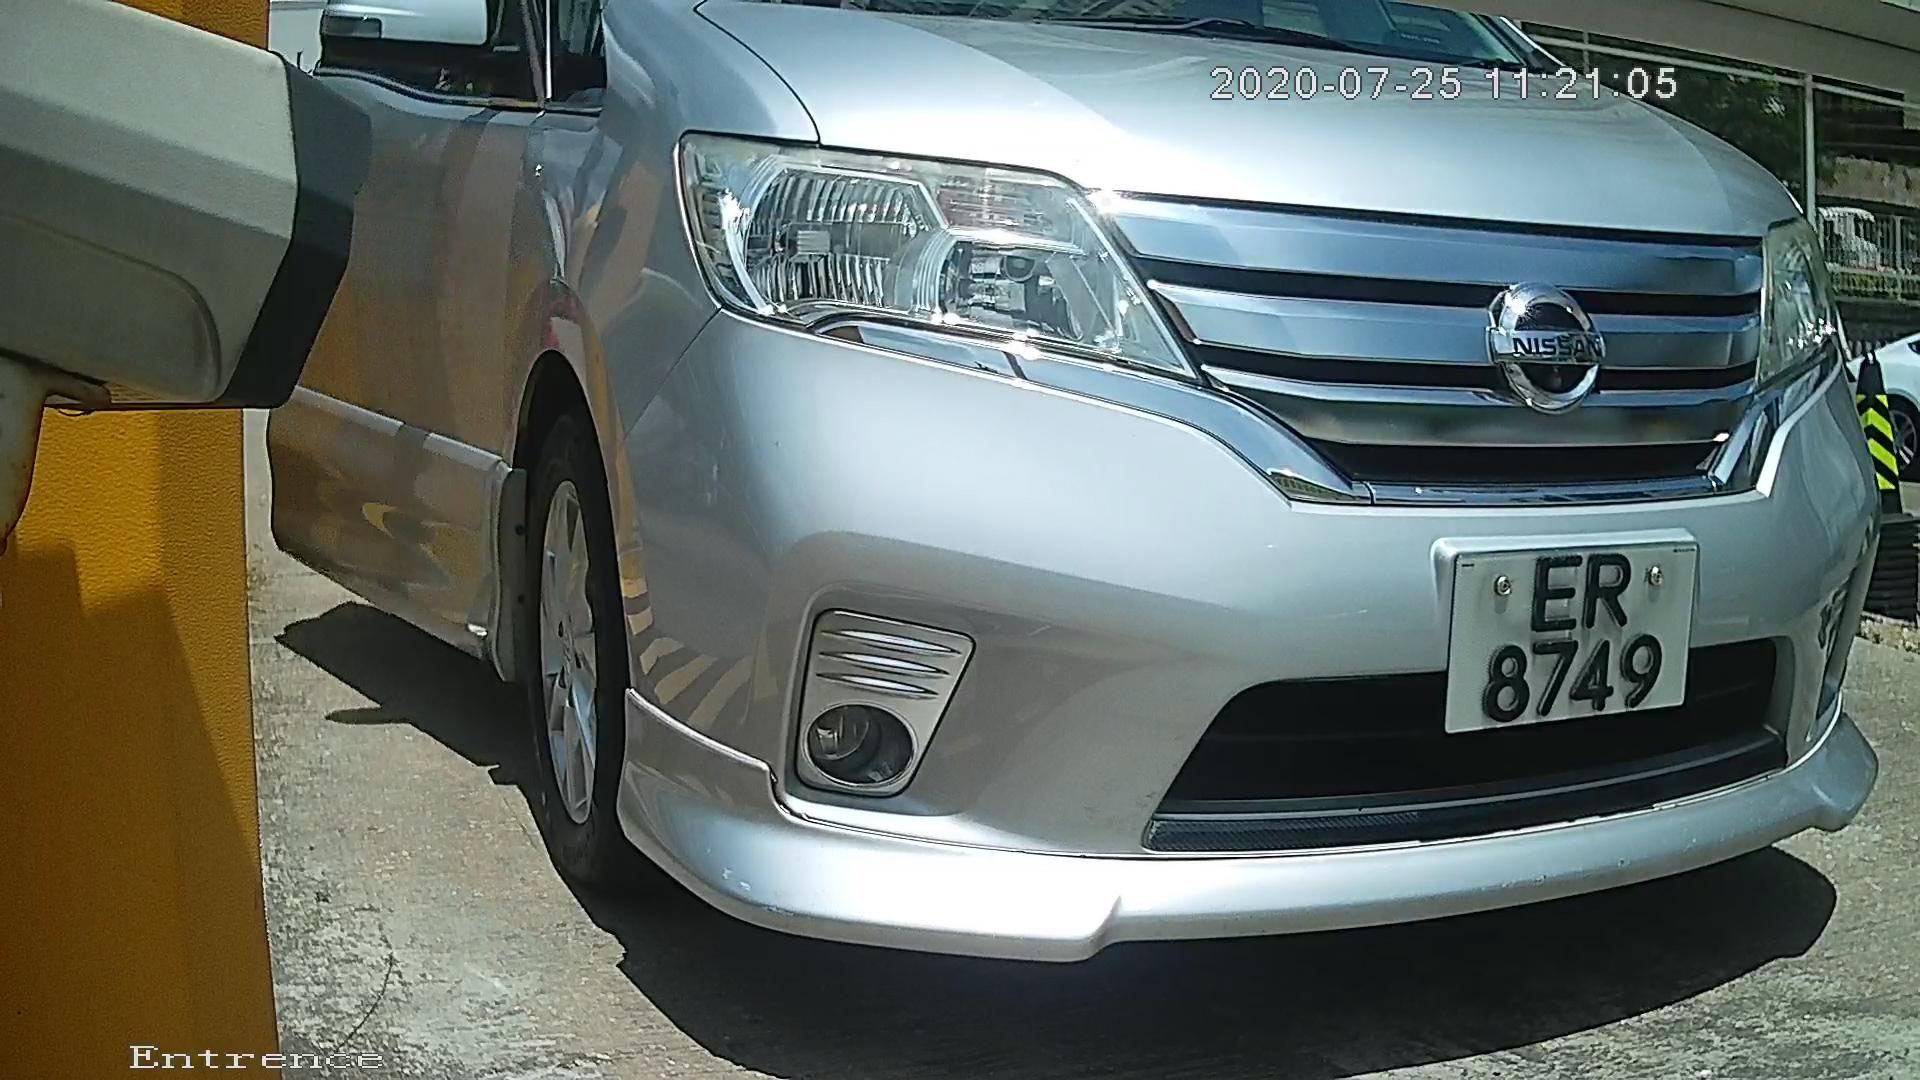License Plate: (1423, 516, 1706, 757)
